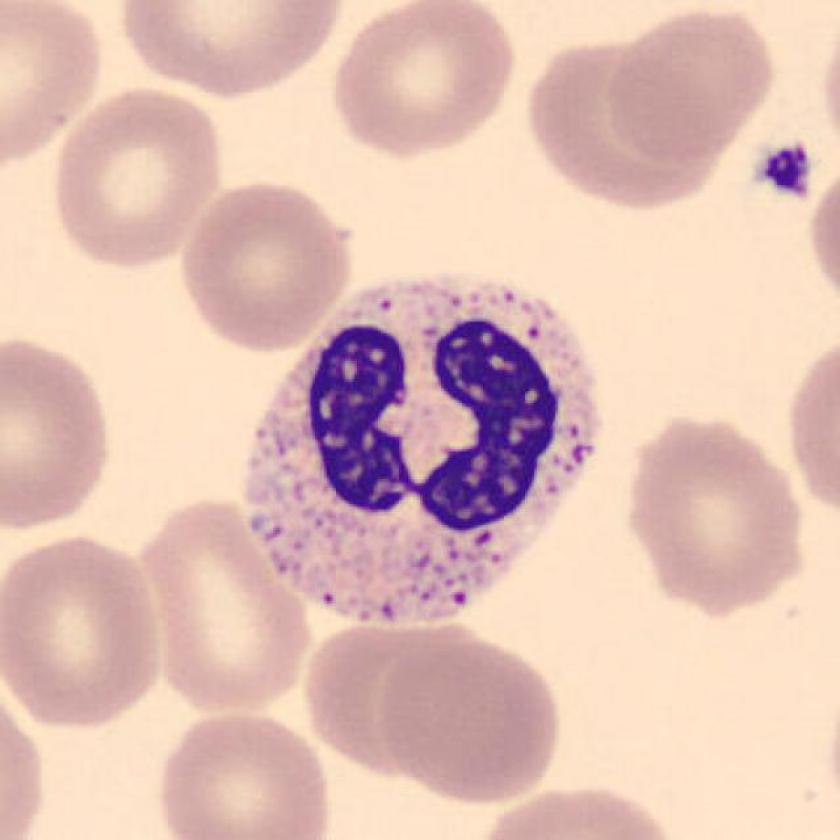neutrophil: (248, 275, 600, 627)
